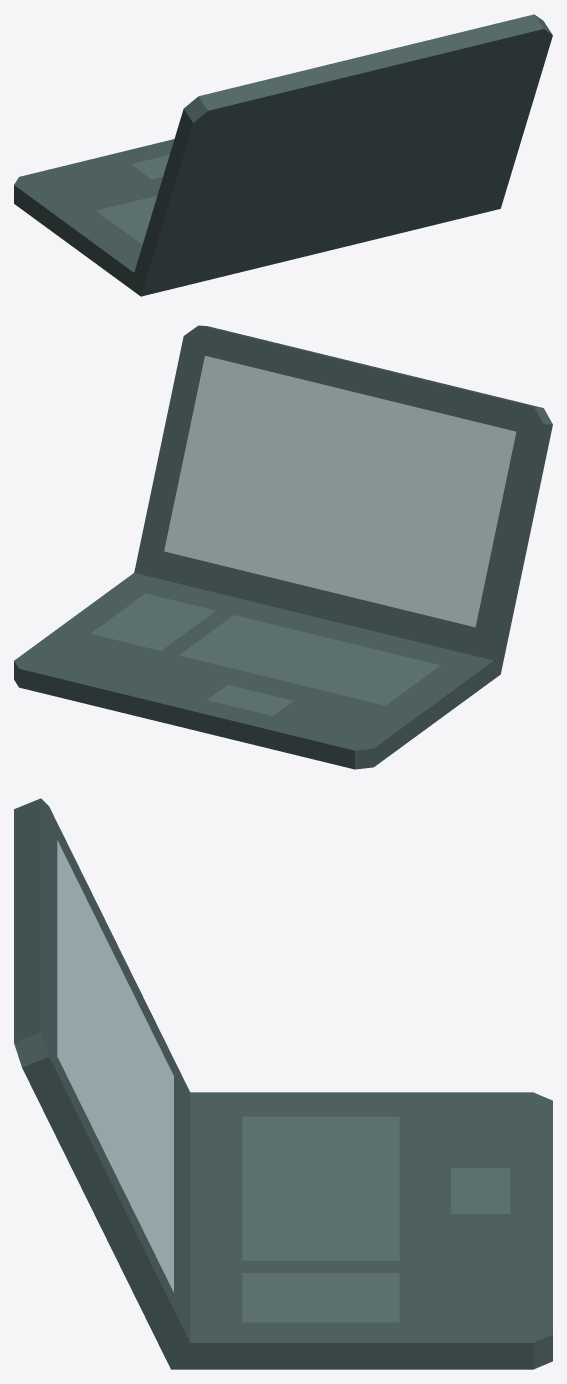
Rendered from laptop.dae.
3 renders of one model, top to bottom at view 1: azimuth 30°, elevation 25°; view 2: azimuth 150°, elevation 25°; view 3: azimuth 270°, elevation 25°, orthographic. The views are drawn at different scales.
Visible parts, largest first — view 1: laptop; view 2: laptop; view 3: laptop.
Boxes of the visible parts, box(x1,y1,x2,y2) form: laptop: box(14, 14, 552, 296); laptop: box(14, 325, 552, 769); laptop: box(14, 798, 552, 1369).
Bounding box in the file's own units: 0.264 × 0.1618 × 0.2401.
